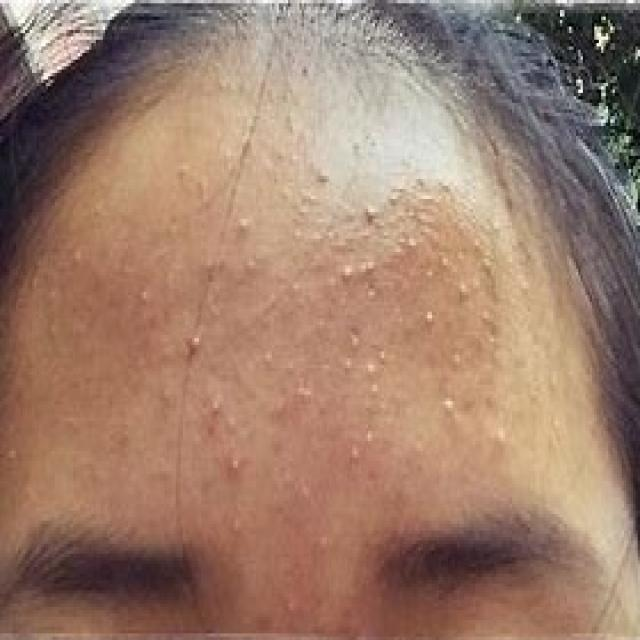fungal: (26, 143, 538, 496)
